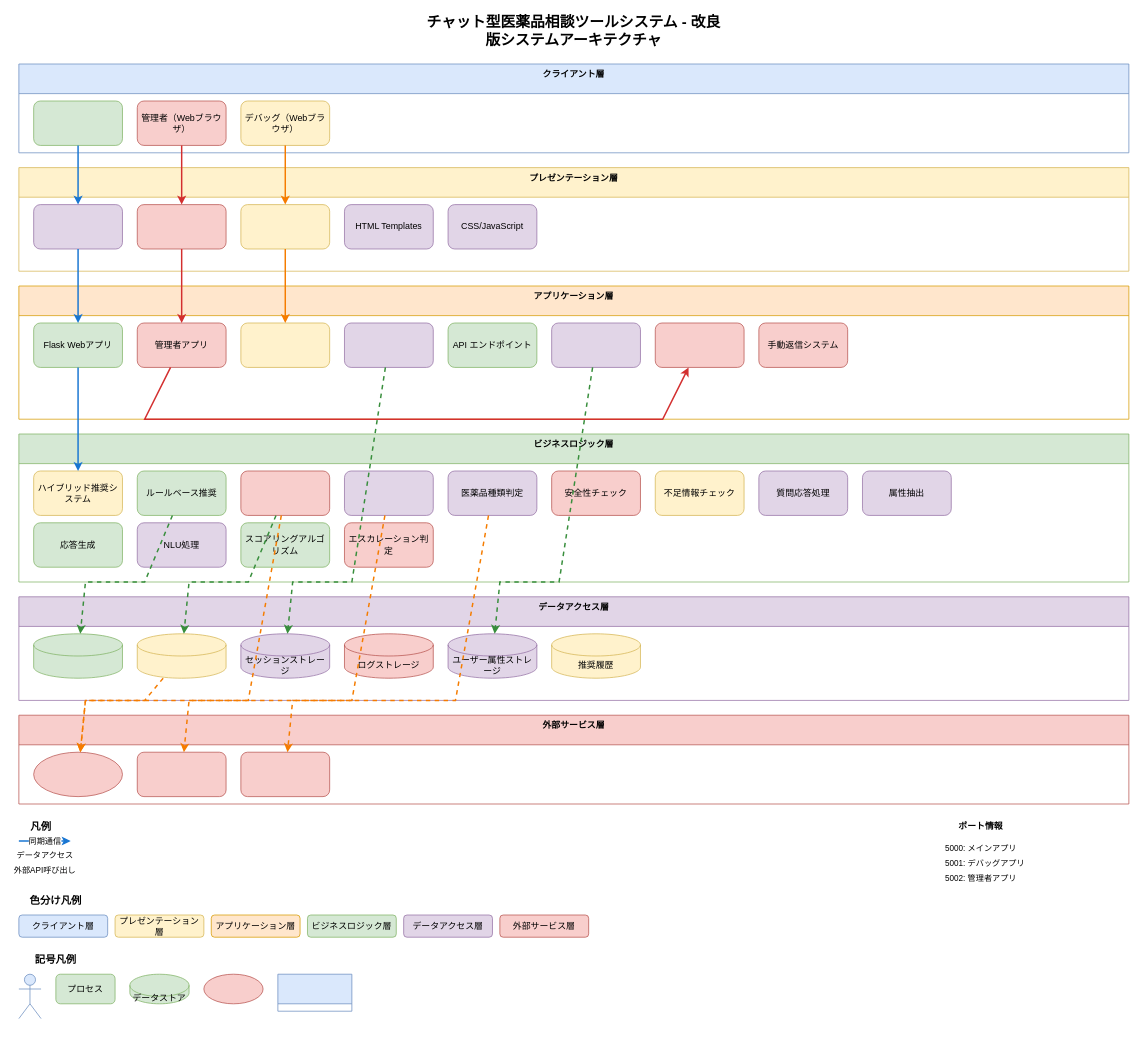
The diagram is 1142 pixels wide and 1046 high, and some of its shapes have lost their labels. Each missing label, with the box of its shape:
AI制御システム: (655, 322, 744, 367)
AI推奨: (240, 470, 330, 515)
GPT-4o: (137, 751, 226, 797)
GPT-4o-mini: (240, 751, 330, 797)
OpenAI API: (33, 751, 122, 797)
Webインターフェース: (33, 204, 122, 249)
アクター: (18, 973, 41, 1019)
セッション管理: (344, 322, 433, 367)
デバッグアプリ: (240, 322, 330, 367)
デバッグインターフェース: (240, 204, 330, 249)
ユーザー属性管理: (551, 322, 640, 367)
ユーザー（Webブラウザ）: (33, 100, 122, 145)
効能要約データ: (137, 633, 226, 678)
医薬品DB: (33, 633, 122, 678)
外部サービス: (203, 973, 263, 1004)
症状分析: (344, 470, 433, 515)
管理者インターフェース: (137, 204, 226, 249)
階層: (277, 973, 352, 1011)
